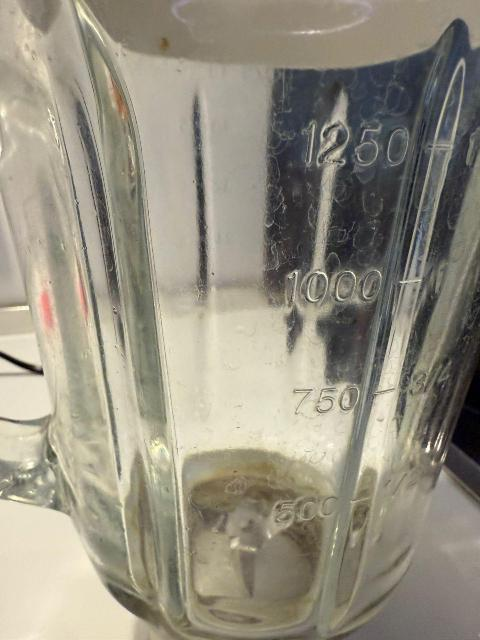Cam: (0, 0, 480, 630)
